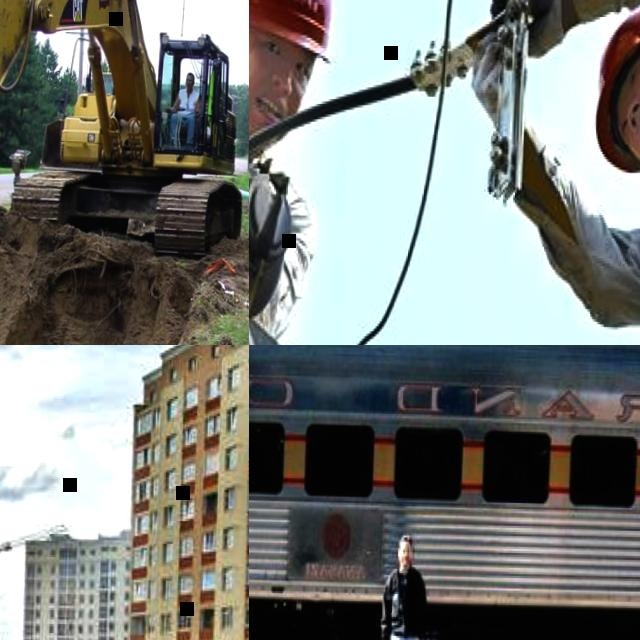Hardhat: (594, 2, 640, 172), (249, 0, 335, 60)
NO-Hardhat: (398, 532, 413, 544), (185, 71, 196, 80)
NO-Mask: (249, 81, 291, 144), (401, 556, 412, 566), (185, 80, 194, 89)
NO-Safety Vest: (249, 95, 298, 345), (388, 569, 424, 637), (177, 89, 198, 112)
Person: (459, 0, 640, 330), (249, 0, 323, 345), (379, 530, 429, 640), (167, 69, 201, 143)
machinery: (0, 0, 249, 345)
